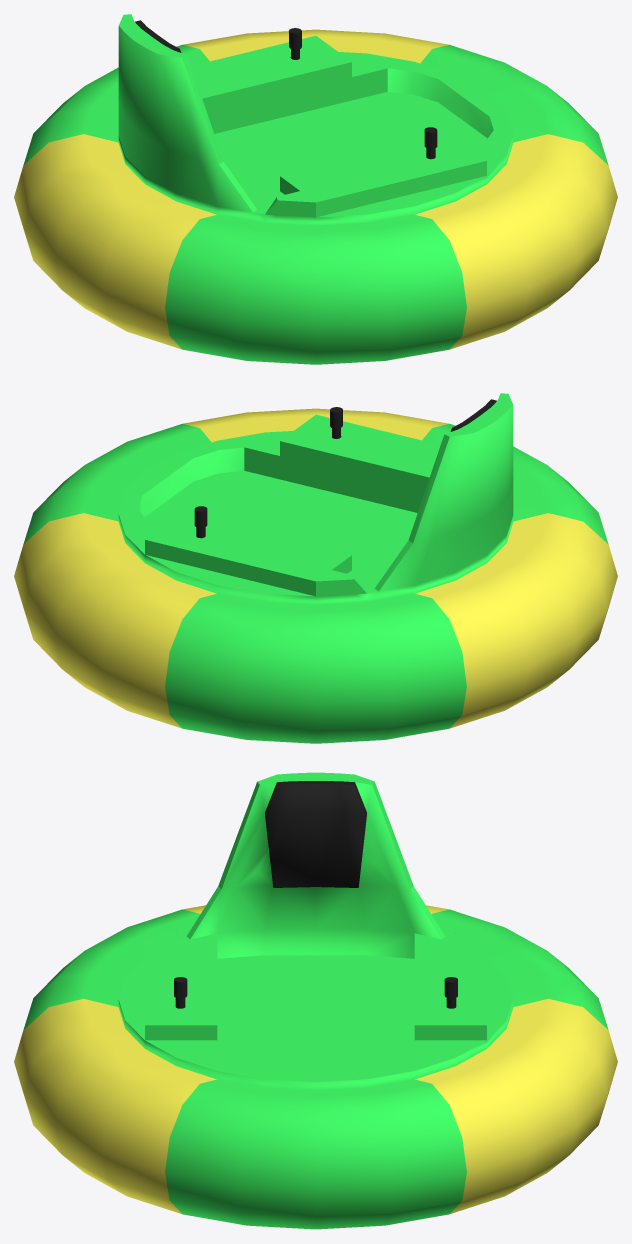
File: TorusCart_lime_yellow.dae
The picture shows the model from 3 angles, top to bottom: view 1: azimuth 30°, elevation 25°; view 2: azimuth 150°, elevation 25°; view 3: azimuth 270°, elevation 25°; orthographic projection.
Parts seen in each view (by area): view 1: Torus.002; view 2: Torus.002; view 3: Torus.002.
Part boxes in pixels (bbox=[...]): Torus.002: bbox=[14, 14, 617, 364]; Torus.002: bbox=[14, 393, 617, 743]; Torus.002: bbox=[14, 772, 617, 1229].
Size of the model in its own units: 1.3 by 1.3 by 0.6266.
